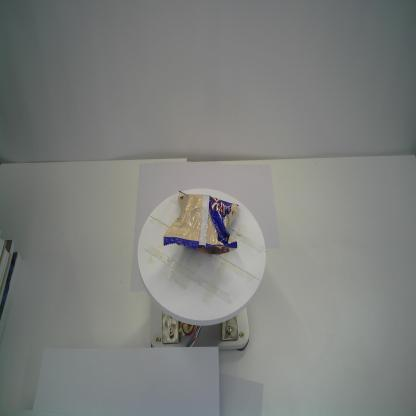Dessert: (162, 189, 242, 256)
